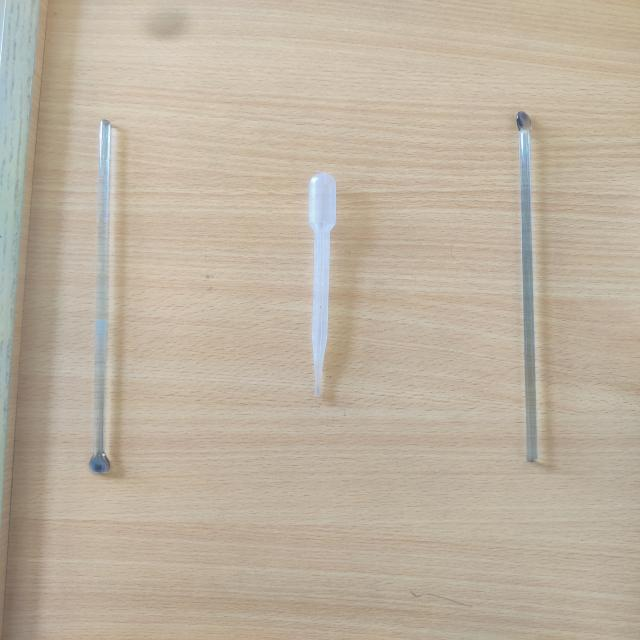Glass_Rod: (51, 96, 166, 494), (474, 89, 577, 488)
Pipette: (271, 141, 393, 414)
